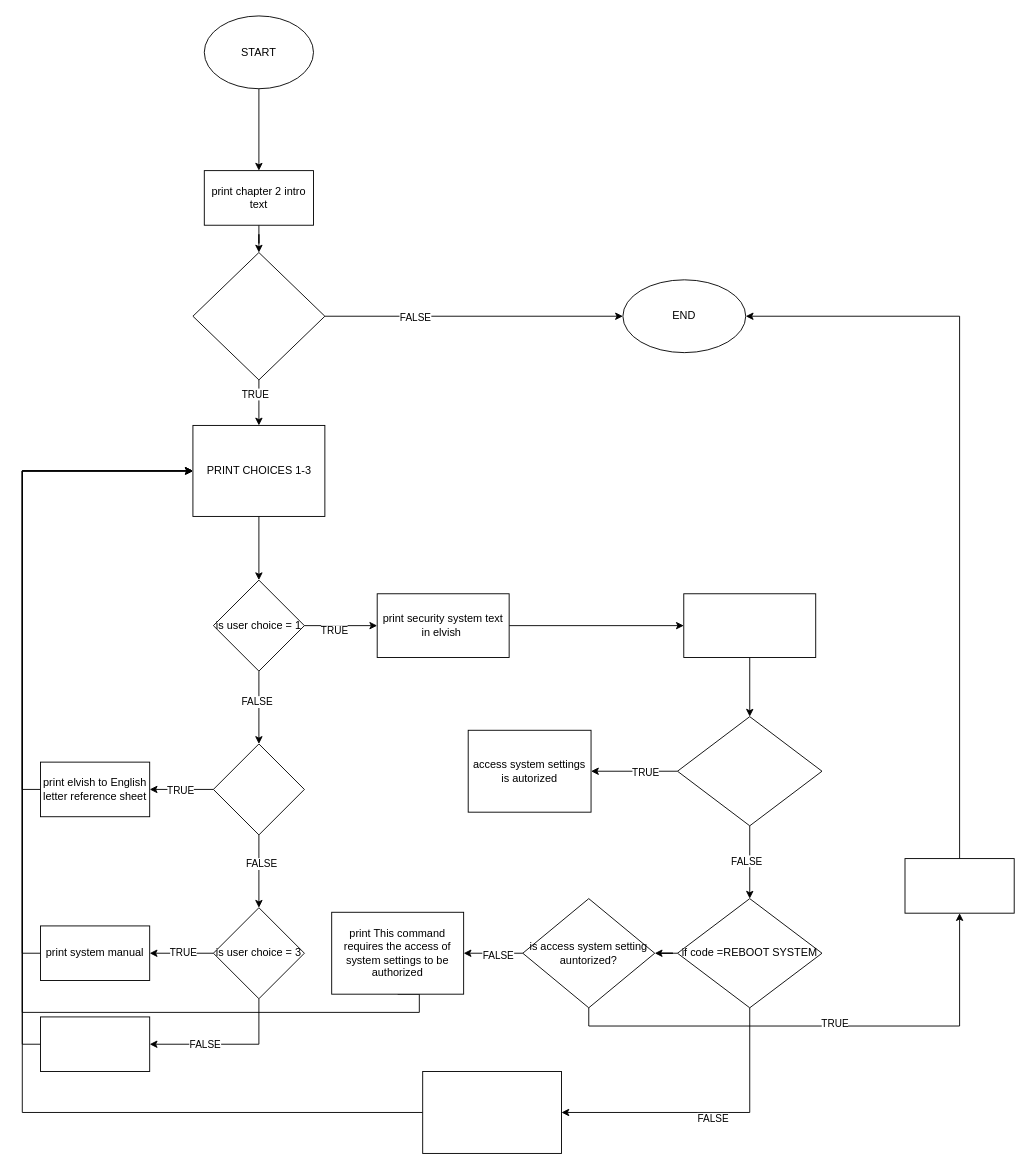
The diagram is 1030 pixels wide and 1169 high, and some of its shapes have lost their labels. Each missing label, with the centre of its shape:
"Ask user what they wish to do (They need to input code to get different results)" goes at [749,625].
"chap2_completed = false" goes at [258,316].
"if code = access system settings" goes at [749,771].
"is user choice = 2" goes at [258,789].
"print error not a valid comand" goes at [491,1112].
"print not an option" goes at [95,1044].
"PRINT SUCCESSFUL REBOOT TEXT" goes at [959,885].
